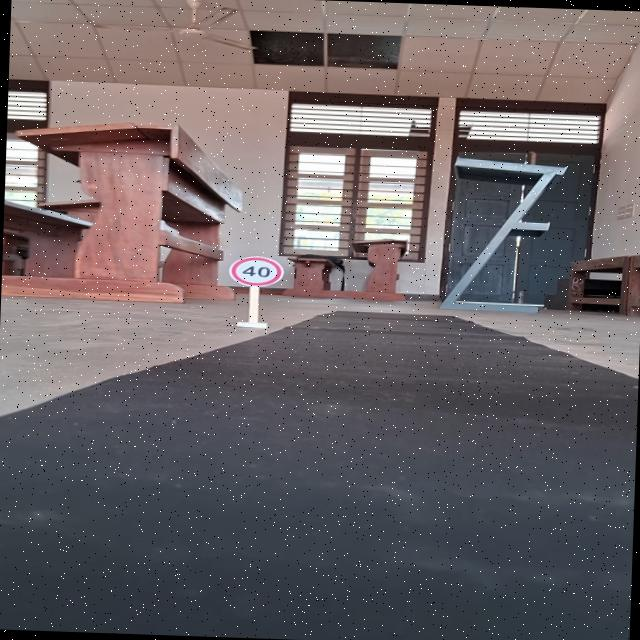Speed40: (227, 254, 286, 289)
